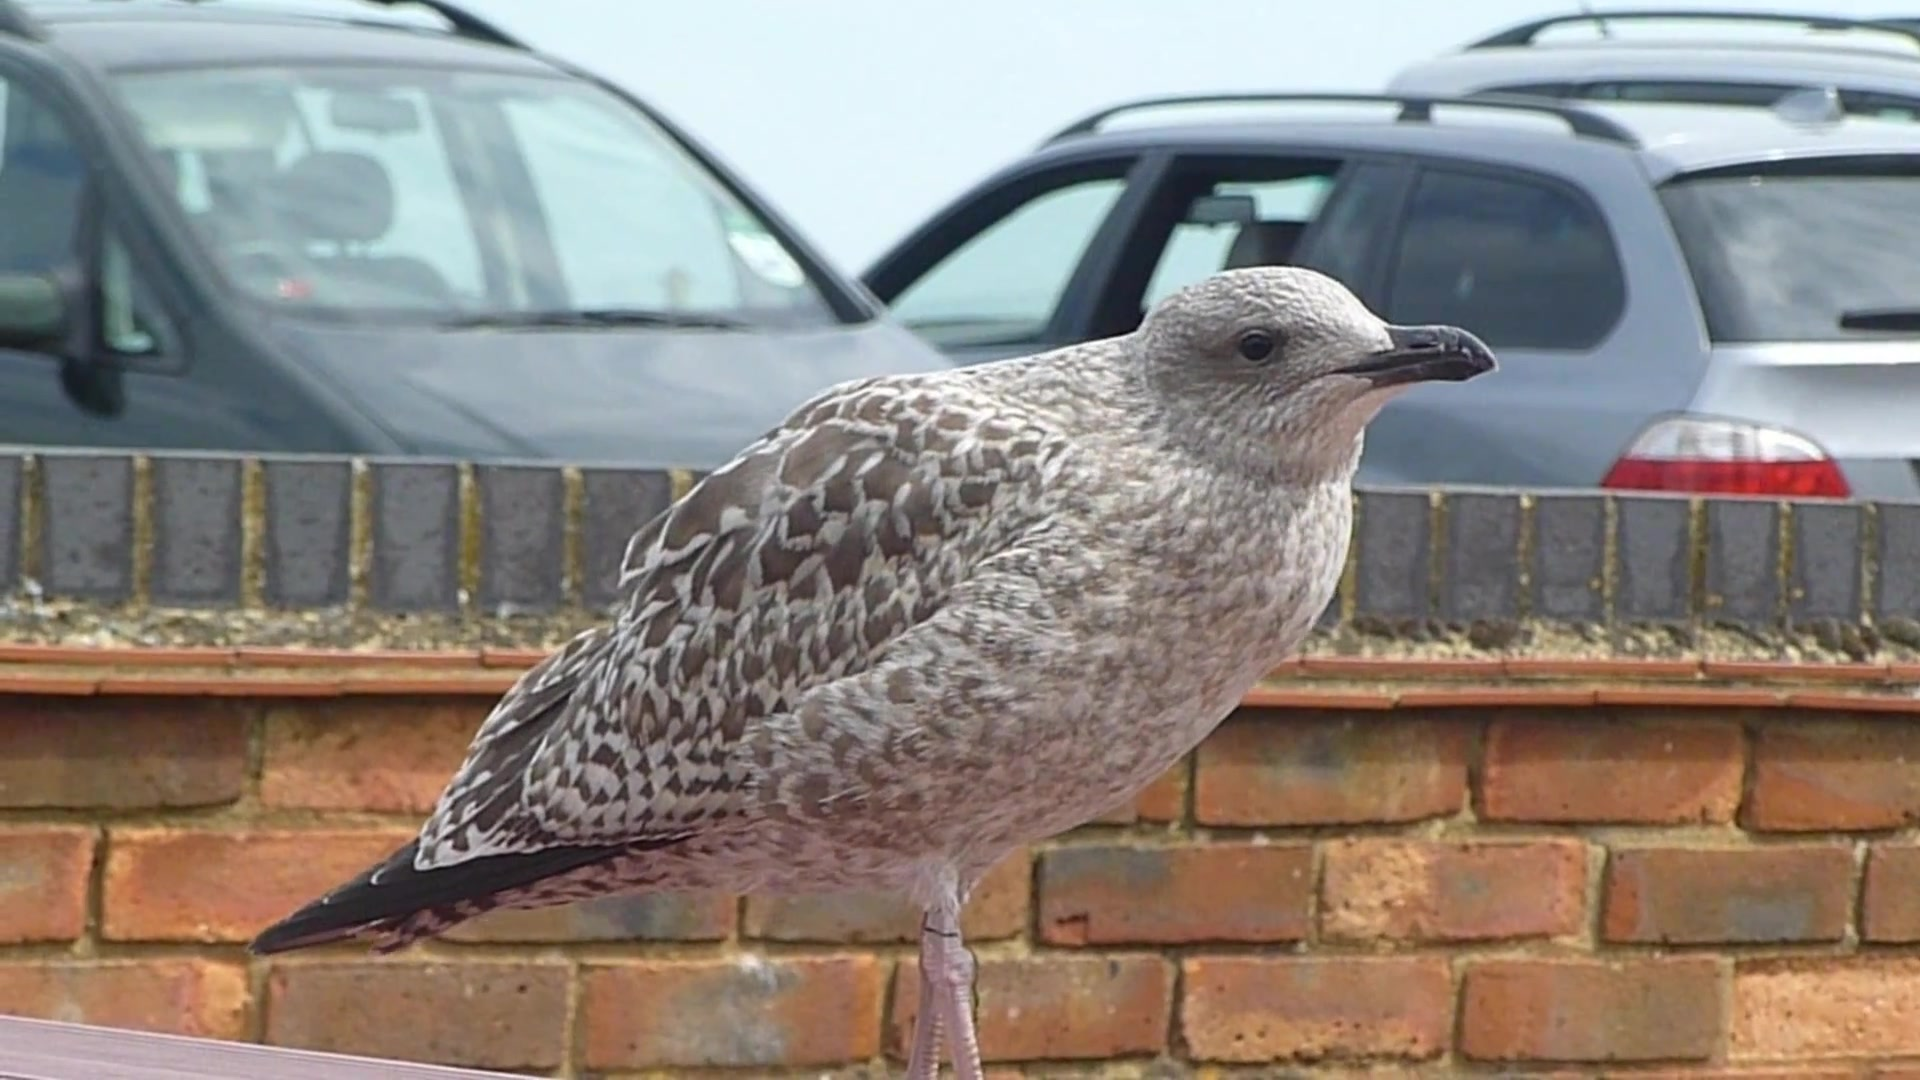bird: (249, 260, 1501, 1077)
